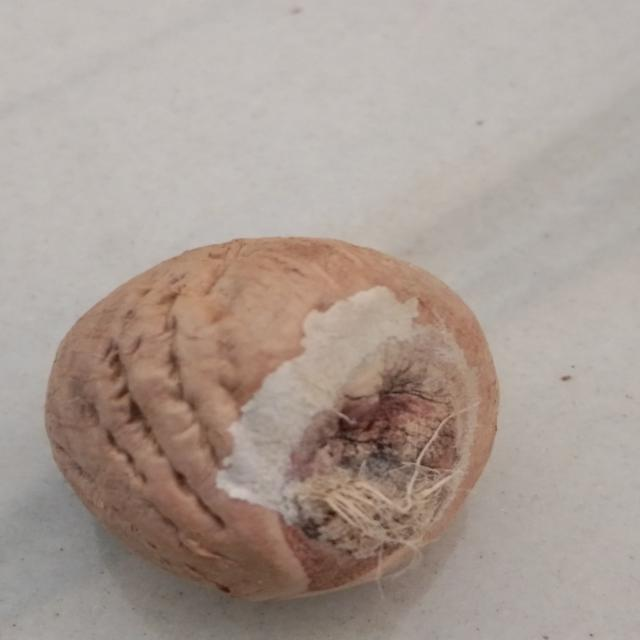phatora: (34, 220, 518, 600)
